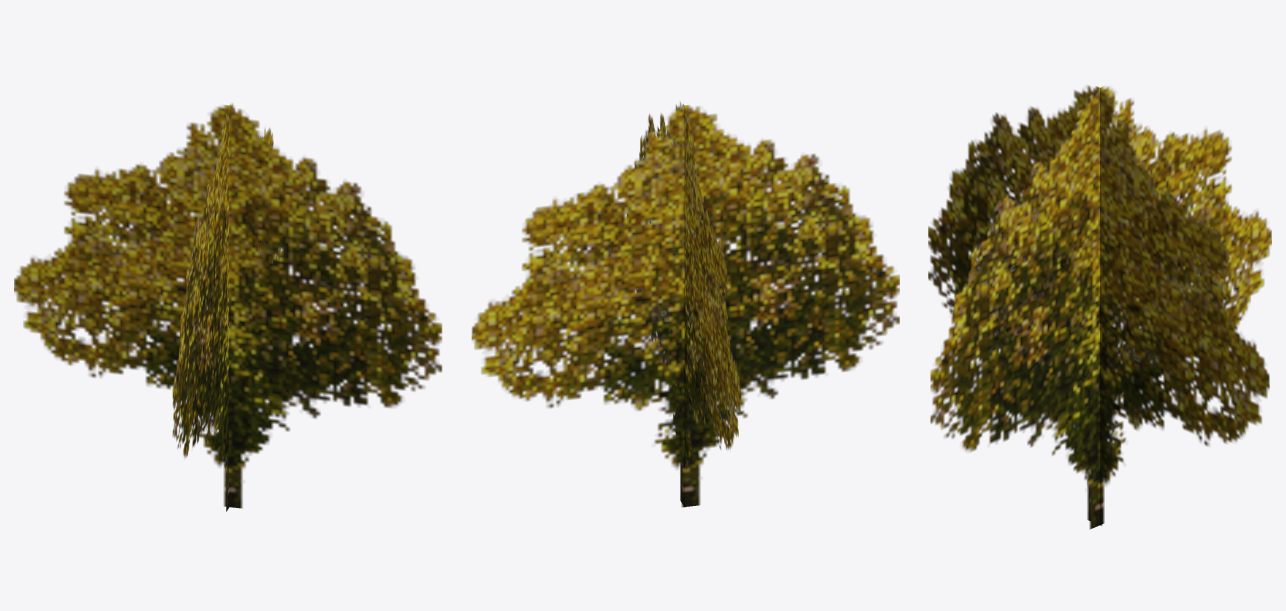
File: tree021.glb
The picture shows the model from 3 angles, left to right: view 1: azimuth 30°, elevation 25°; view 2: azimuth 150°, elevation 25°; view 3: azimuth 270°, elevation 25°; orthographic projection. The views are drawn at different scales.
Visible parts, largest first — view 1: tree021; view 2: tree021; view 3: tree021.
Part boxes in pixels (x1,y1,x2,y2): tree021: (14, 103, 442, 511); tree021: (471, 102, 899, 507); tree021: (928, 85, 1271, 529).
Bounding box in the file's own units: 2.14 × 3.1 × 2.14.
Materials: 1 (1 with a texture image).
